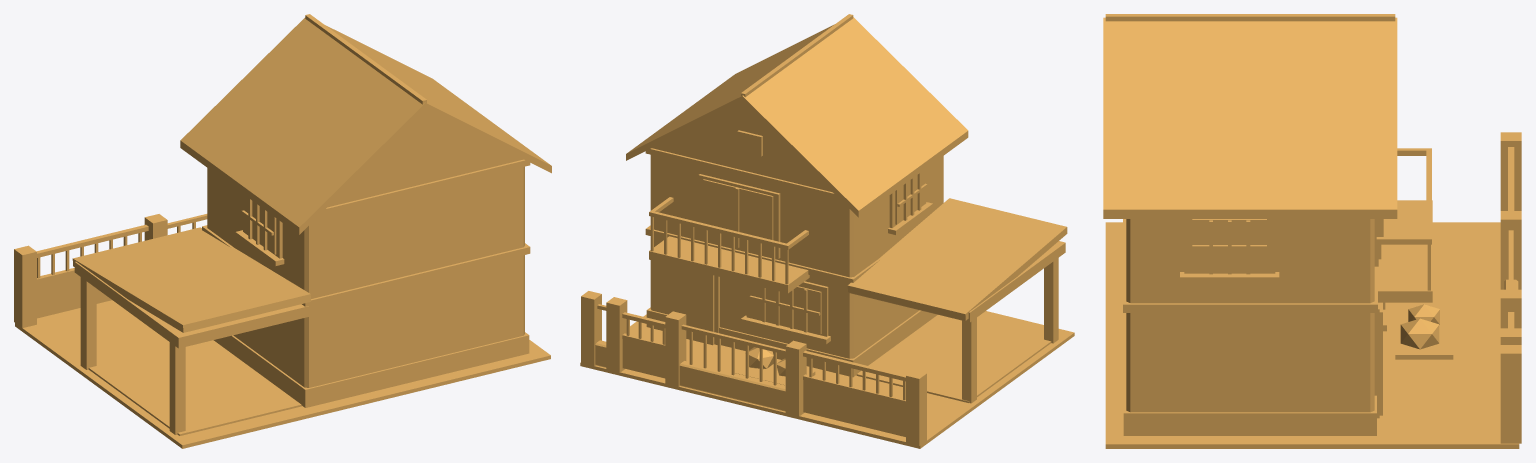
The picture shows the model from 3 angles, left to right: view 1: azimuth 30°, elevation 25°; view 2: azimuth 150°, elevation 25°; view 3: azimuth 270°, elevation 25°; orthographic projection. The views are drawn at different scales.
Parts seen in each view (by area): view 1: corpo; view 2: corpo; view 3: corpo.
Part boxes in pixels (left/top/right/bottom): corpo: left=14, top=14, right=551, bottom=448; corpo: left=580, top=14, right=1074, bottom=448; corpo: left=1103, top=14, right=1521, bottom=448.
Size of the model in its own units: 1.27 by 0.953 by 1.01.
